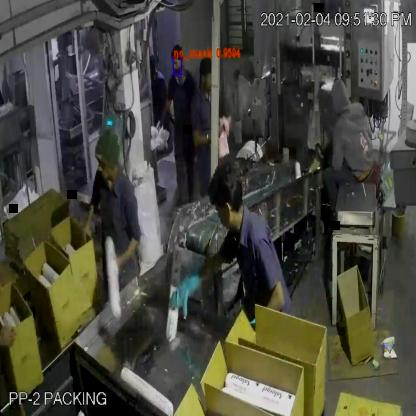glove: (166, 252, 204, 326)
no_glove: (107, 217, 144, 279), (75, 186, 96, 250), (0, 319, 25, 361)
